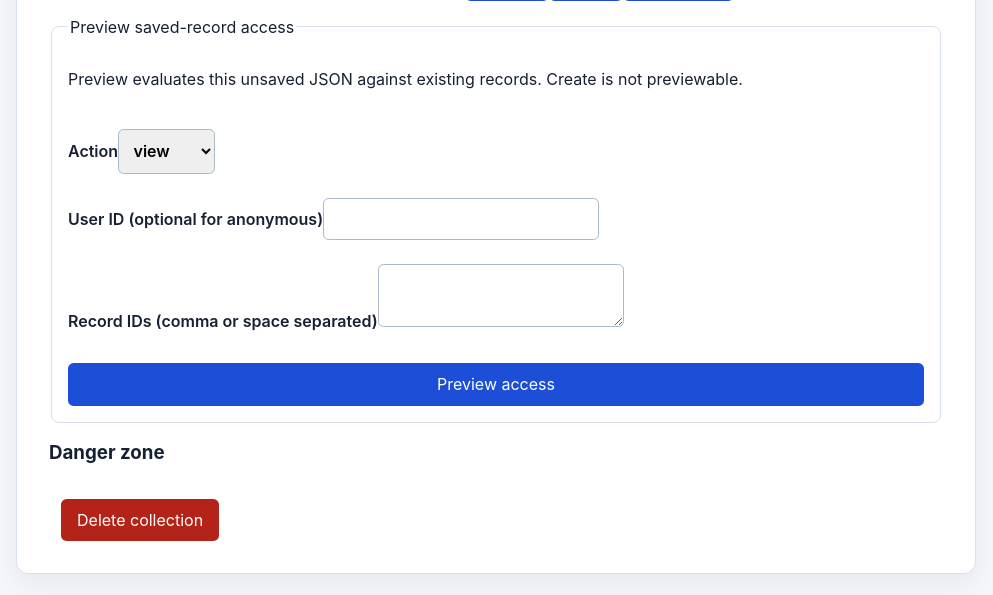
Scenario: collection designer page › shows the deletion plan before dropping a collection and lets it be cancelled
(page scrolled)
What coordinates should you click on to do the following:
click the button "Delete collection"
I would click on:
 (140, 520)
Its box is [61,499,219,541].
(page scrolled)
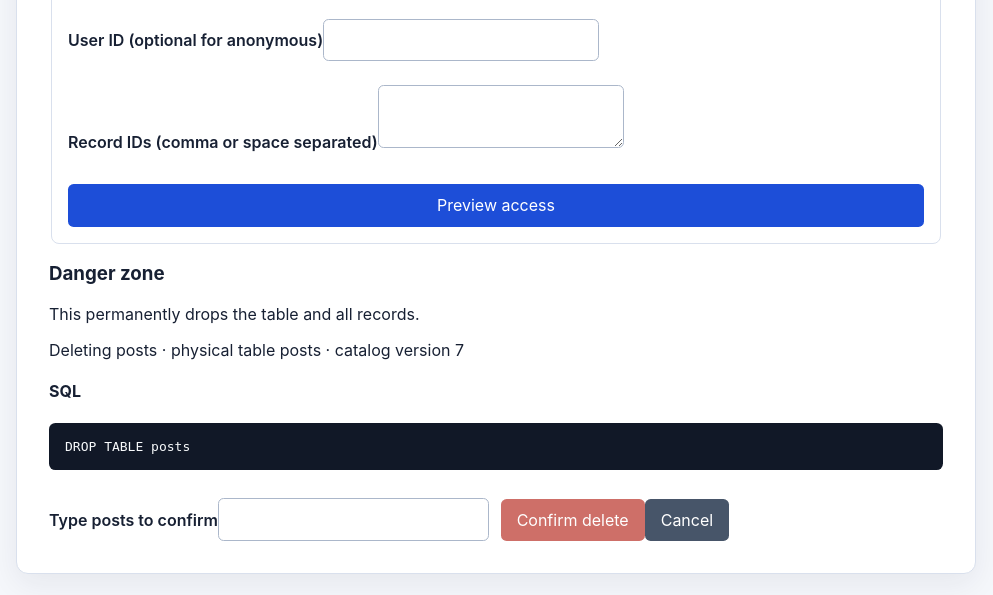
Expected: the text "DROP TABLE posts" is shown, [49,422,943,470]
What coordinates should you click on to do the following:
click the button "Cancel"
I would click on:
 (687, 520)
Its box is [645,498,729,541].
(page scrolled)
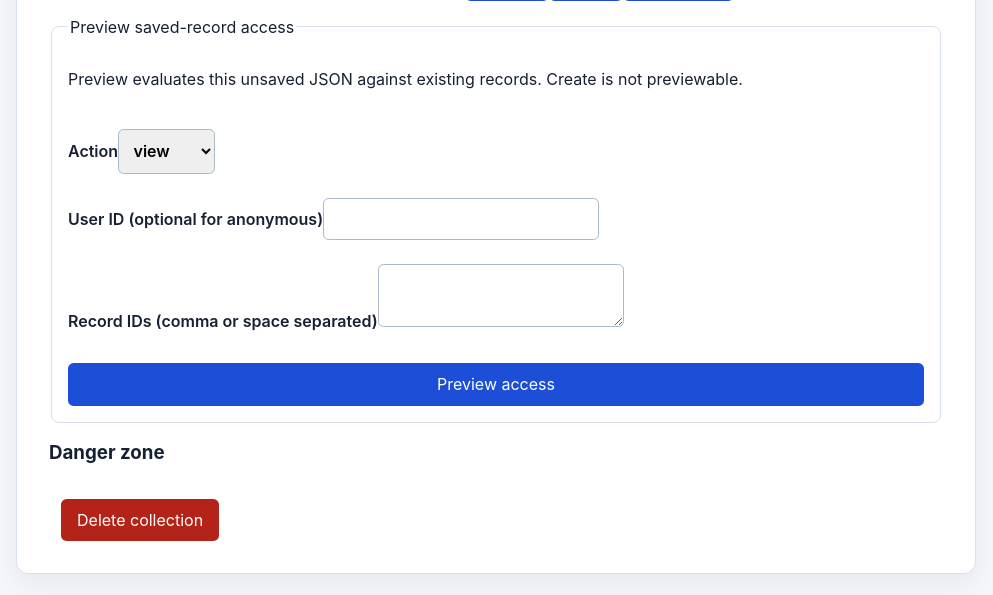
Expected: the text "DROP TABLE posts" is gone
Expected: the button "Delete collection" is shown, [61,499,219,541]
